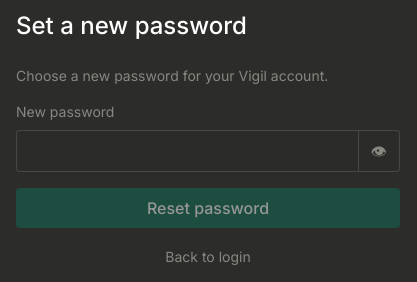
Test case: ResetPasswordPage › AUTH-12-RPP-01-429-RENDERS-COUNTDOWN: 429 + Retry-After: 120 renders rate-limited UX with mm:ss (form unmounts)
The image size is (417, 282).
Type "ValidNewPass123!" into the password field labelled "New password" at (187, 151), box [16, 130, 359, 172]
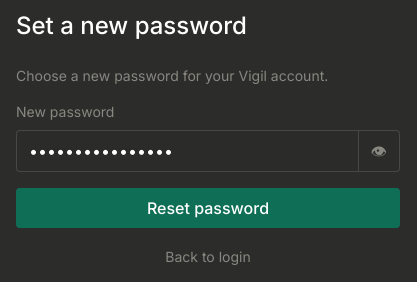
Click the button "Reset password" at (208, 208), box [16, 188, 400, 228]
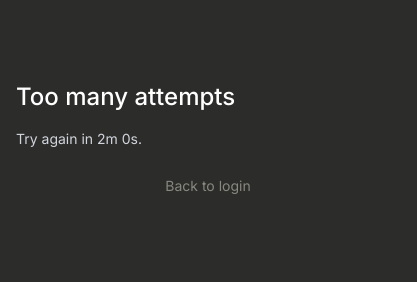
Check: the heading reads "Too many attempts", box [16, 82, 235, 111]
Check: the text "Try again in 2m 0s." is shown, box [16, 130, 142, 147]
Check: the heading labelled "new password" is gone
